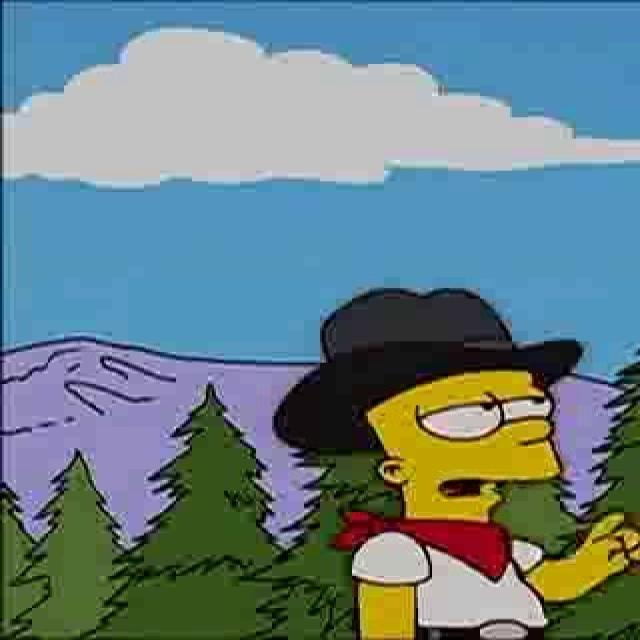Bart Simpson: (355, 342, 569, 526)
